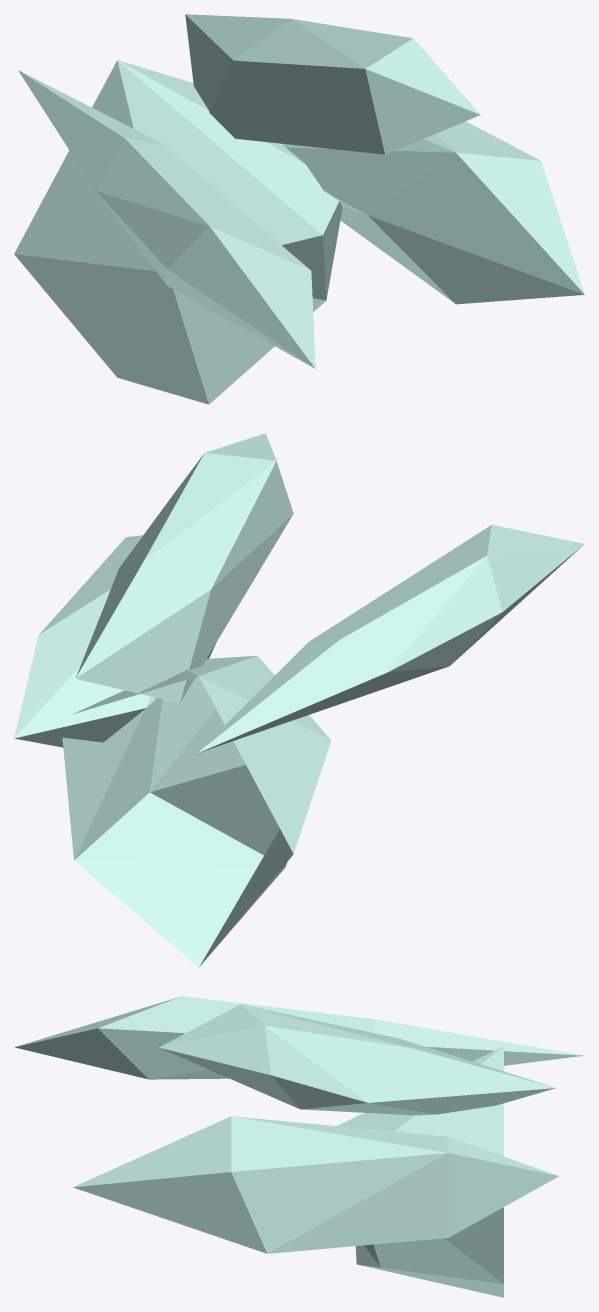
3 renders of one model, top to bottom at view 1: azimuth 30°, elevation 25°; view 2: azimuth 150°, elevation 25°; view 3: azimuth 270°, elevation 25°, orthographic. The views are drawn at different scales.
Visible parts, largest first — view 1: Object79; view 2: Object79; view 3: Object79.
Part boxes in pixels (left/top/right/bottom): Object79: left=14, top=14, right=584, bottom=404; Object79: left=14, top=433, right=584, bottom=967; Object79: left=14, top=996, right=583, bottom=1297.
Bounding box in the file's own units: 18922 × 18211 × 28706.
